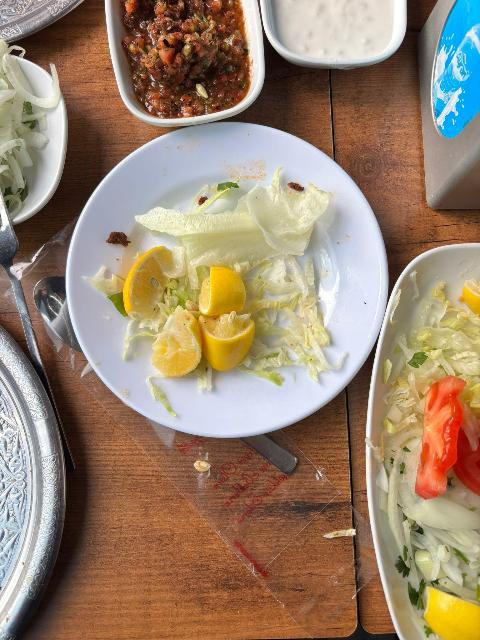Organik: (139, 0, 225, 89), (119, 244, 173, 322), (423, 386, 462, 492), (0, 77, 36, 186), (292, 0, 377, 42), (198, 272, 248, 322), (206, 311, 252, 358)
